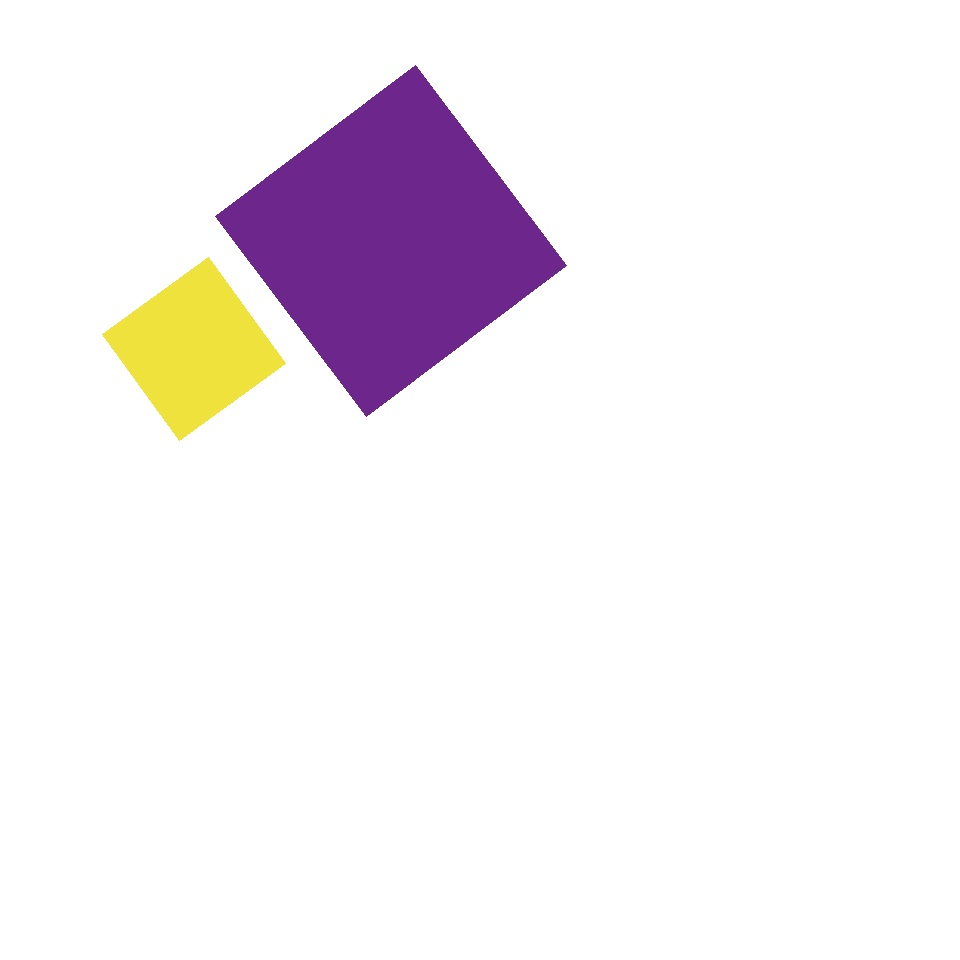circle: (55, 353, 286, 615)
square: (216, 66, 566, 416), (103, 257, 286, 440)
triangle: (740, 716, 876, 850), (638, 844, 746, 952)
